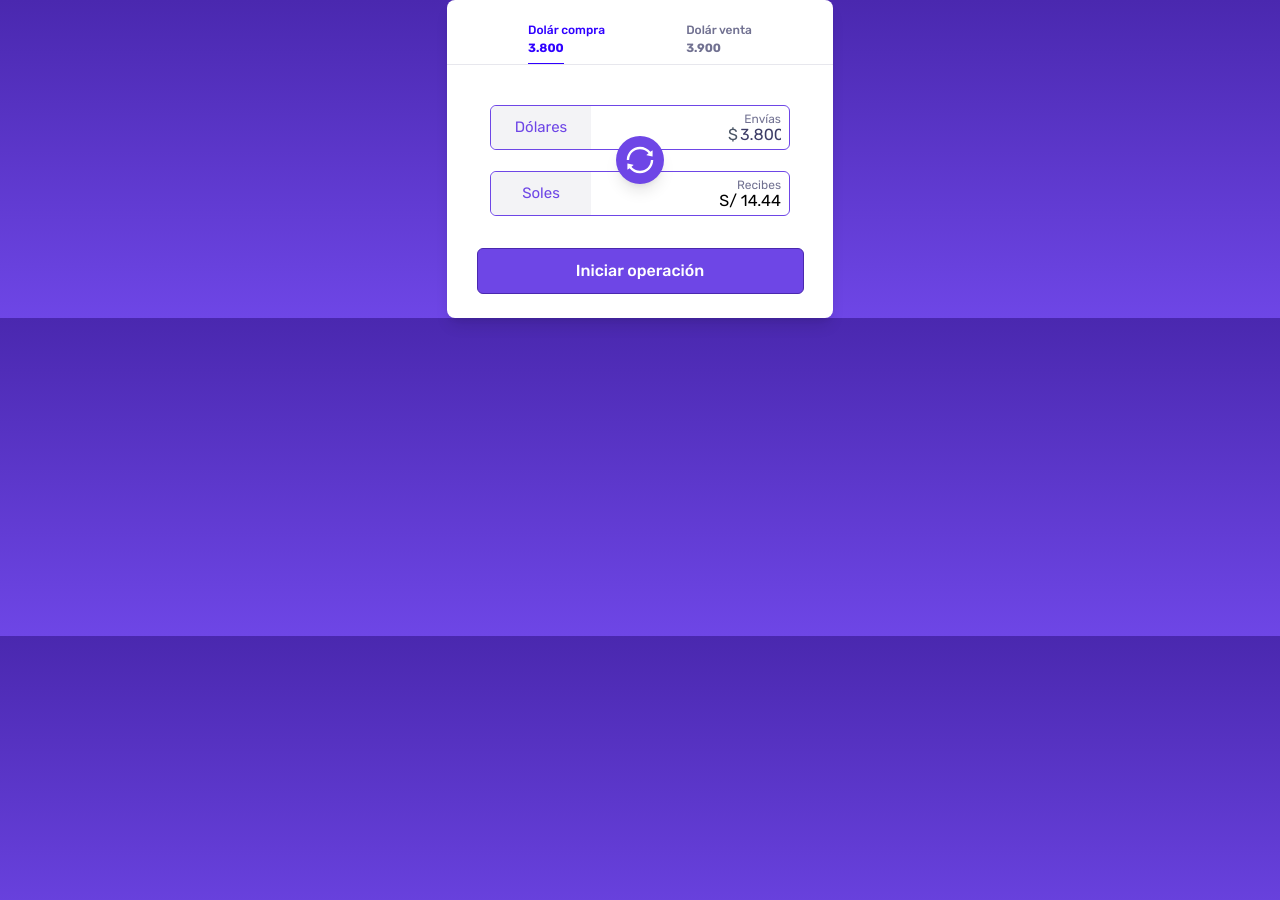
Test: CurrencyConverter.vue › debe calcular correctamente la conversión de dólares a soles en la pestaña de compra
This screenshot has width=1280, height=900.
Replace the text in the field with "100" at (748, 135), box x1=716 y1=123 x2=781 y2=147
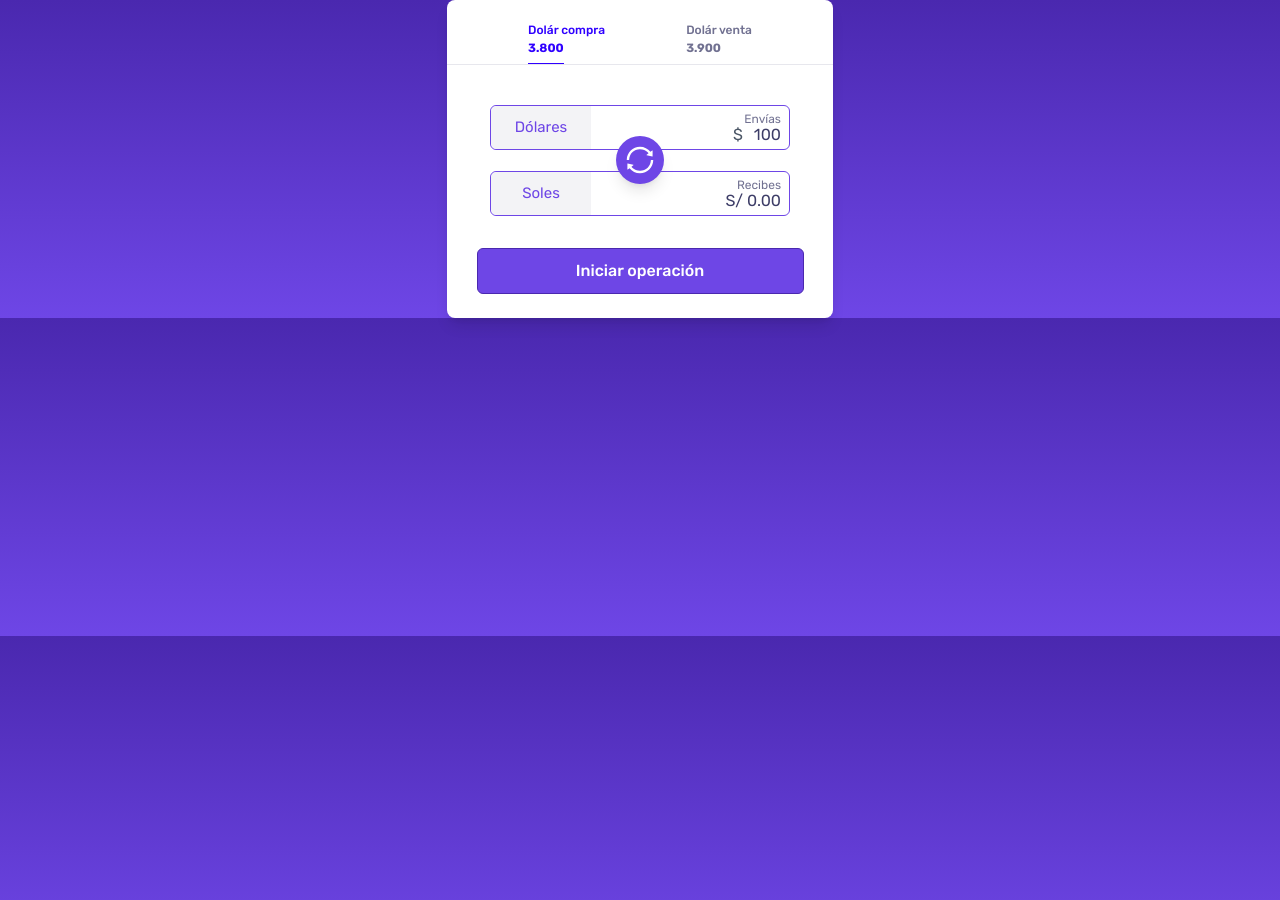
Click the button "Iniciar operación" at (640, 271), box x1=476 y1=248 x2=804 y2=294
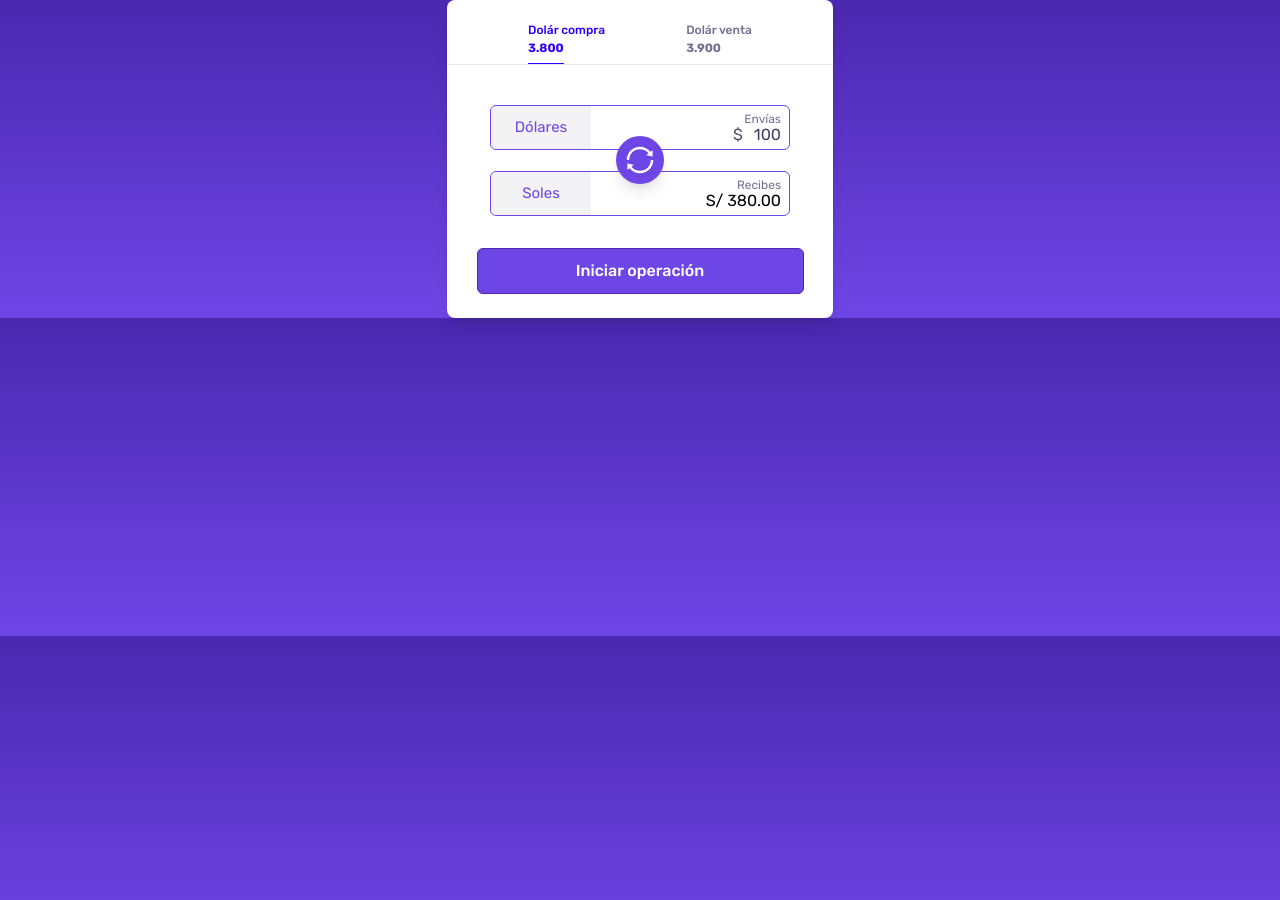
Check: the text "S/ 380.00" is shown, box x1=706 y1=191 x2=781 y2=210
